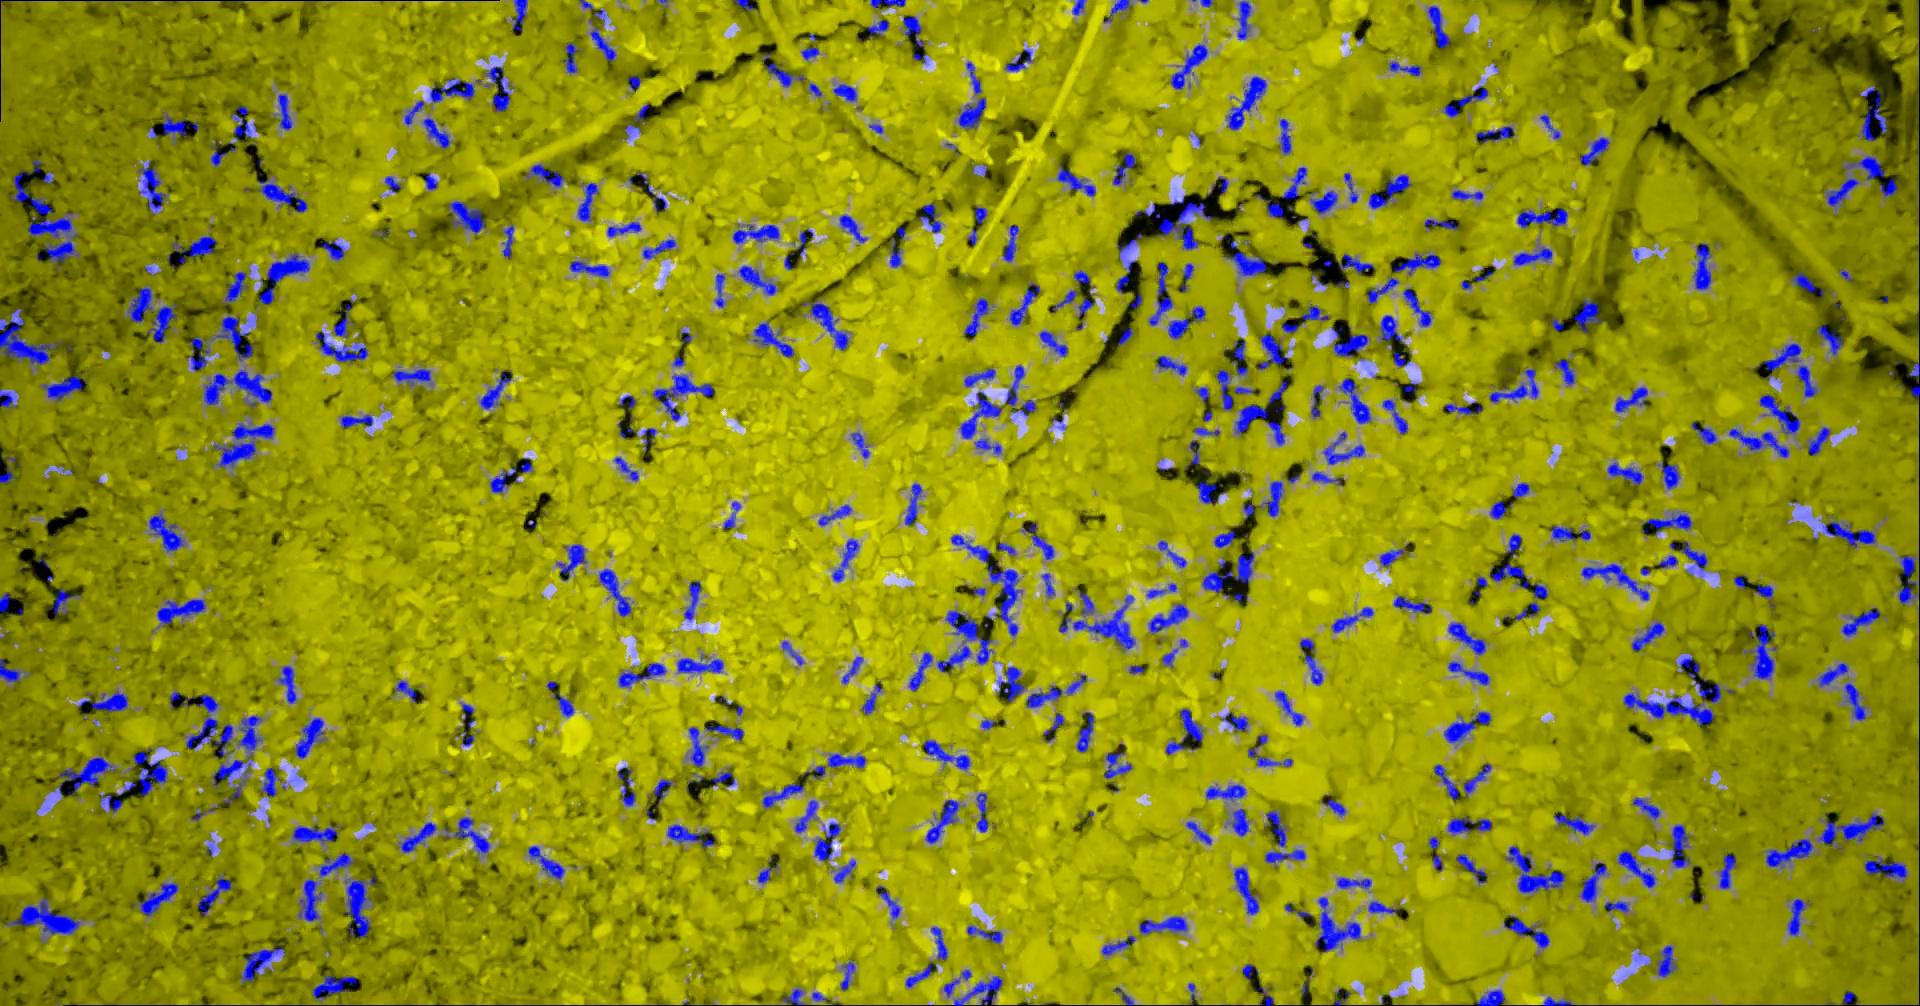ant: (1074, 594, 1137, 648), (187, 694, 234, 757), (1625, 692, 1716, 725), (654, 373, 716, 420), (1161, 196, 1215, 249), (8, 897, 81, 934), (215, 423, 276, 467), (1507, 846, 1566, 892), (1316, 895, 1363, 951), (260, 253, 311, 304), (947, 610, 994, 664), (204, 370, 273, 406), (1583, 563, 1651, 600), (803, 298, 850, 351), (989, 563, 1022, 636), (58, 756, 118, 794), (1228, 76, 1269, 130), (1491, 561, 1549, 598), (126, 747, 169, 796), (1204, 550, 1255, 592), (1677, 655, 1722, 702), (1820, 813, 1884, 843), (961, 391, 1003, 438), (347, 875, 377, 939), (1730, 428, 1790, 457), (1167, 708, 1204, 754), (444, 817, 491, 854), (215, 316, 254, 359), (599, 568, 632, 616), (1172, 44, 1209, 88), (215, 760, 251, 803), (317, 332, 370, 362), (926, 799, 961, 843), (259, 179, 309, 211), (1491, 370, 1540, 401), (1150, 260, 1175, 325), (138, 160, 168, 213), (1761, 394, 1801, 433), (1225, 240, 1269, 276), (1505, 915, 1550, 948), (1862, 85, 1888, 141), (1823, 520, 1877, 547), (1750, 622, 1777, 678), (1370, 174, 1413, 208), (243, 948, 286, 982), (135, 882, 179, 915), (1340, 377, 1371, 423), (1619, 850, 1658, 887), (1445, 711, 1492, 742), (1445, 85, 1490, 117), (955, 976, 1003, 1005), (1324, 431, 1366, 464), (150, 513, 185, 551), (756, 323, 795, 357), (924, 741, 971, 768), (1768, 840, 1815, 868), (1765, 343, 1802, 379), (199, 876, 232, 916), (173, 235, 218, 263), (1011, 283, 1041, 325), (296, 716, 326, 758), (530, 845, 566, 879), (1283, 305, 1330, 332), (1058, 164, 1097, 196), (481, 370, 513, 409), (637, 171, 668, 212), (42, 373, 88, 400), (450, 201, 488, 232), (1170, 306, 1208, 338), (1449, 622, 1487, 654), (400, 821, 438, 852), (149, 302, 179, 342), (157, 600, 207, 624), (1023, 522, 1055, 559), (618, 662, 667, 686), (669, 824, 717, 848), (1236, 868, 1260, 915), (557, 544, 588, 580), (1150, 603, 1189, 633), (1843, 607, 1881, 636), (430, 77, 476, 102), (952, 533, 992, 561), (1865, 855, 1909, 880), (1236, 403, 1270, 434), (486, 66, 510, 111), (314, 974, 358, 998), (1898, 555, 1920, 605), (1404, 288, 1432, 326), (834, 539, 860, 580), (1333, 607, 1375, 633), (1517, 207, 1570, 227), (1581, 861, 1608, 901), (1394, 253, 1443, 274), (1260, 334, 1289, 370), (1276, 690, 1305, 725), (740, 265, 777, 293), (1449, 661, 1491, 685), (239, 715, 263, 757), (764, 782, 806, 807), (298, 879, 323, 921), (1643, 513, 1693, 533), (295, 823, 344, 843), (999, 666, 1027, 701), (1429, 5, 1451, 48), (549, 680, 575, 716), (817, 822, 842, 860), (938, 641, 971, 671), (1575, 298, 1603, 333), (910, 652, 935, 691), (965, 298, 990, 335), (1679, 540, 1709, 570), (1556, 812, 1596, 835), (1633, 622, 1665, 652), (1457, 854, 1488, 883), (959, 97, 987, 130), (1829, 178, 1862, 206), (590, 27, 617, 61), (1384, 399, 1410, 434), (1435, 763, 1460, 799), (1368, 276, 1399, 304), (1848, 156, 1886, 179), (527, 163, 565, 185), (734, 224, 780, 243), (424, 117, 451, 149), (1465, 763, 1492, 795), (1449, 815, 1493, 835), (225, 271, 248, 307), (1283, 166, 1308, 199), (1617, 386, 1650, 412), (1142, 916, 1189, 934), (321, 852, 356, 876), (690, 727, 710, 767), (163, 114, 201, 136), (1672, 824, 1691, 868), (1581, 137, 1611, 164), (130, 287, 152, 323), (1382, 315, 1408, 345), (1817, 324, 1844, 354), (1793, 269, 1825, 295), (877, 885, 902, 918), (1340, 253, 1377, 274), (93, 690, 130, 711), (1250, 748, 1294, 766), (1029, 685, 1063, 708), (841, 215, 869, 243), (1105, 751, 1133, 779), (1159, 540, 1189, 567), (1697, 243, 1713, 290), (579, 182, 599, 220), (1846, 682, 1867, 720), (1609, 462, 1644, 484), (905, 481, 923, 525), (907, 963, 938, 987), (1114, 151, 1137, 184), (796, 799, 819, 832), (1477, 124, 1516, 144), (684, 580, 703, 620), (618, 767, 637, 807), (1789, 898, 1810, 935), (1335, 334, 1369, 356), (1820, 662, 1850, 686), (1515, 246, 1553, 265), (1007, 365, 1025, 405), (1267, 810, 1288, 846), (1041, 330, 1069, 356), (55, 587, 80, 615), (766, 62, 795, 86), (1396, 594, 1432, 614), (279, 666, 298, 702), (1217, 370, 1234, 409), (1263, 481, 1284, 516), (679, 657, 724, 672), (1382, 542, 1410, 567), (1117, 260, 1138, 293), (1798, 365, 1818, 398), (820, 504, 853, 525), (1103, 935, 1137, 955), (1810, 426, 1832, 455), (232, 105, 251, 140), (392, 368, 432, 385), (1553, 525, 1592, 541), (1078, 711, 1095, 751), (706, 724, 745, 741), (1208, 784, 1247, 800), (904, 15, 924, 47), (491, 467, 518, 492), (1310, 191, 1338, 213), (969, 925, 1004, 942), (921, 203, 942, 232), (644, 239, 677, 258), (190, 337, 210, 370), (1158, 354, 1189, 375), (1119, 232, 1144, 257), (615, 456, 640, 480), (1053, 290, 1079, 312), (1197, 480, 1224, 503), (1634, 796, 1661, 819), (965, 367, 997, 386), (863, 682, 883, 714), (571, 260, 611, 276), (1233, 339, 1250, 375), (1305, 653, 1324, 683), (1187, 821, 1213, 843), (1658, 945, 1677, 976), (1105, 0, 1131, 22), (1007, 50, 1034, 71), (396, 680, 423, 701), (843, 655, 863, 683), (1045, 713, 1065, 741), (1266, 848, 1307, 862), (1721, 854, 1737, 888), (1004, 224, 1020, 260), (1693, 422, 1718, 443), (335, 304, 352, 337), (932, 926, 949, 959), (829, 753, 867, 767), (977, 793, 990, 831), (608, 221, 643, 236), (323, 238, 345, 260), (783, 640, 805, 664), (1323, 794, 1347, 815), (1556, 358, 1576, 384), (279, 93, 293, 130), (852, 432, 871, 459), (968, 61, 983, 94), (1239, 0, 1252, 39), (1663, 461, 1681, 489), (651, 779, 673, 801), (836, 859, 857, 882), (1224, 711, 1250, 730), (797, 227, 814, 257), (262, 767, 278, 796), (1232, 808, 1250, 835), (1446, 401, 1483, 414), (513, 0, 528, 30), (564, 42, 579, 72), (1269, 380, 1289, 403), (1, 658, 22, 681), (342, 414, 375, 428), (725, 500, 742, 528), (406, 100, 425, 124), (1542, 114, 1561, 138), (1477, 989, 1506, 1005), (1390, 61, 1422, 75), (1313, 471, 1345, 485), (836, 83, 858, 102), (102, 791, 124, 810), (1269, 420, 1286, 445), (1345, 171, 1359, 202), (1148, 583, 1178, 597), (842, 959, 856, 989), (1516, 602, 1542, 619), (1258, 979, 1275, 1005), (1910, 362, 1920, 403), (977, 438, 1003, 453), (504, 224, 516, 258), (1338, 876, 1373, 888), (1068, 674, 1088, 694), (1115, 986, 1135, 1005), (1491, 500, 1512, 518), (1215, 530, 1237, 547), (1015, 399, 1037, 415), (1137, 202, 1161, 217), (1079, 589, 1095, 614), (712, 771, 737, 786), (1313, 385, 1324, 417), (1281, 118, 1291, 154), (1425, 218, 1460, 229), (869, 20, 890, 37), (783, 988, 805, 1005), (1182, 263, 1195, 291), (1286, 903, 1312, 917), (212, 144, 227, 166), (716, 273, 726, 307), (1369, 901, 1399, 912), (1267, 199, 1285, 218), (1043, 573, 1057, 597), (1453, 189, 1484, 199), (1881, 178, 1898, 196), (1512, 481, 1531, 498), (945, 978, 961, 997), (891, 236, 902, 267), (1, 387, 17, 408), (1507, 533, 1523, 554), (636, 103, 651, 122), (644, 428, 658, 448), (805, 765, 825, 779), (1076, 271, 1092, 287), (1079, 298, 1095, 316), (1119, 328, 1134, 345), (1163, 648, 1178, 666), (872, 0, 907, 8), (1545, 996, 1575, 1005), (1605, 901, 1630, 911), (386, 177, 403, 192), (1394, 351, 1411, 366), (803, 46, 820, 60), (1, 465, 15, 483), (977, 206, 988, 227), (1191, 439, 1201, 464), (1658, 555, 1679, 567), (1244, 963, 1260, 978), (1844, 989, 1859, 1005), (425, 173, 439, 189), (1757, 584, 1775, 597), (1, 591, 11, 612), (1197, 387, 1211, 403), (759, 866, 773, 882), (621, 395, 637, 408), (1195, 427, 1222, 434), (1735, 575, 1752, 587), (1073, 0, 1086, 15), (630, 75, 643, 90), (999, 542, 1016, 554), (463, 702, 475, 719), (735, 0, 756, 9), (810, 83, 823, 97), (522, 457, 533, 473), (1244, 503, 1256, 518), (463, 730, 475, 746), (1434, 854, 1444, 870), (1302, 638, 1316, 649), (1404, 382, 1420, 392), (1236, 386, 1260, 392)
